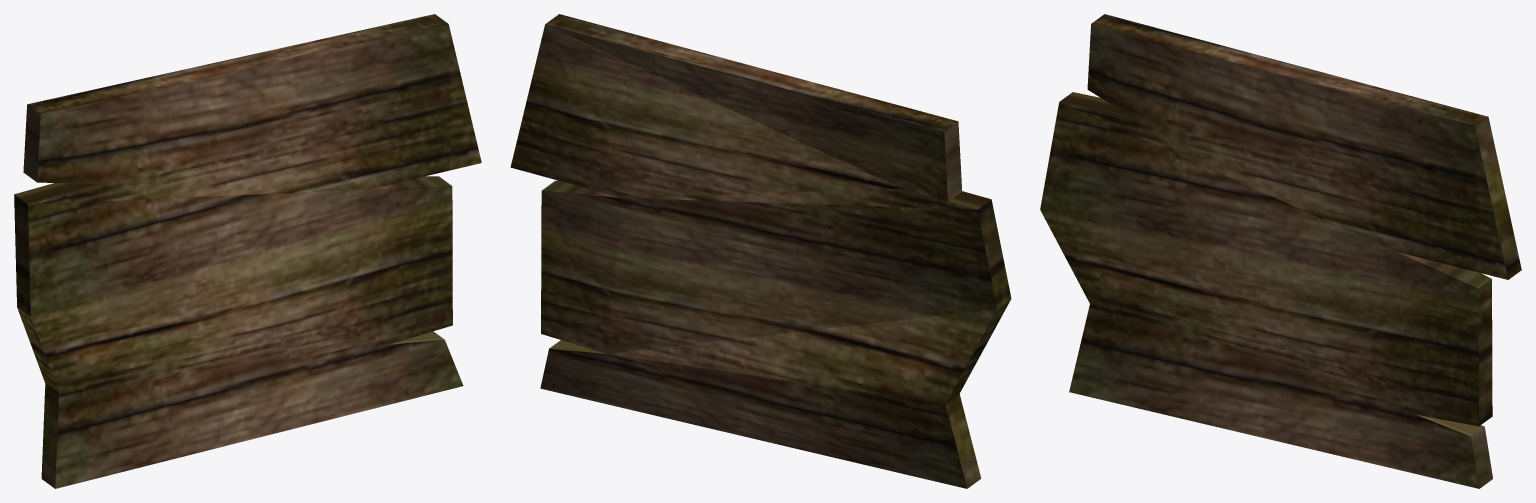
The picture shows the model from 3 angles, left to right: view 1: azimuth 30°, elevation 25°; view 2: azimuth 150°, elevation 25°; view 3: azimuth 330°, elevation 25°; orthographic projection. The views are drawn at different scales.
Visible parts, largest first — view 1: model_Object21; view 2: model_Object21; view 3: model_Object21.
Boxes of the visible parts, box(x1,y1,x2,y2) form: model_Object21: box(14, 14, 481, 488); model_Object21: box(510, 14, 1011, 488); model_Object21: box(1040, 14, 1521, 488).
Size of the model in its own units: 5.22 by 3.89 by 0.6758.
Materials: 1 (1 with a texture image).
